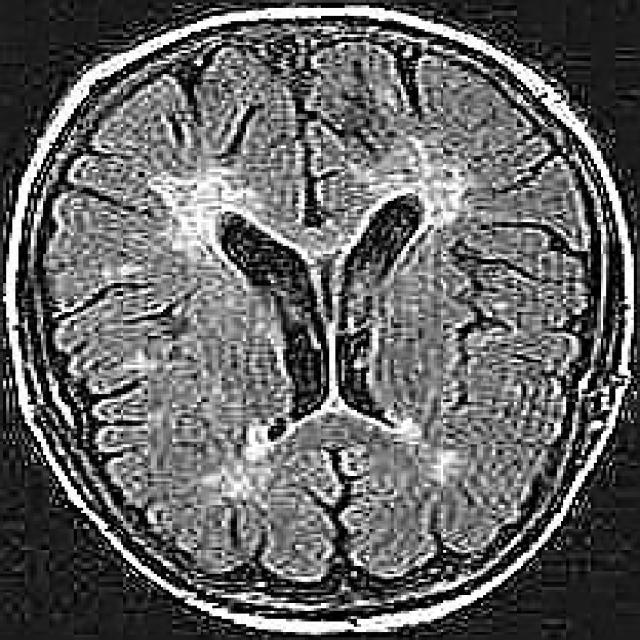notumor: (3, 8, 634, 629)
